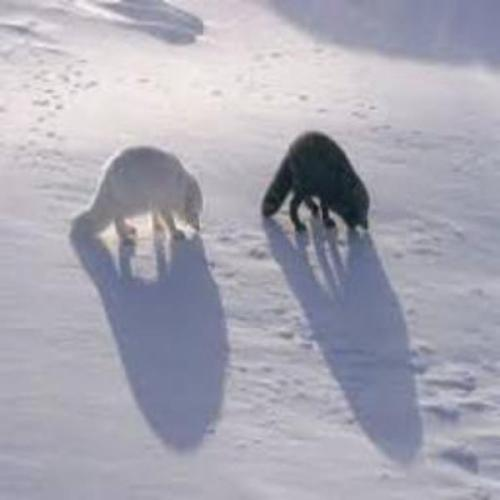arctic_fox-endangered: (70, 147, 203, 243), (262, 133, 370, 231)
